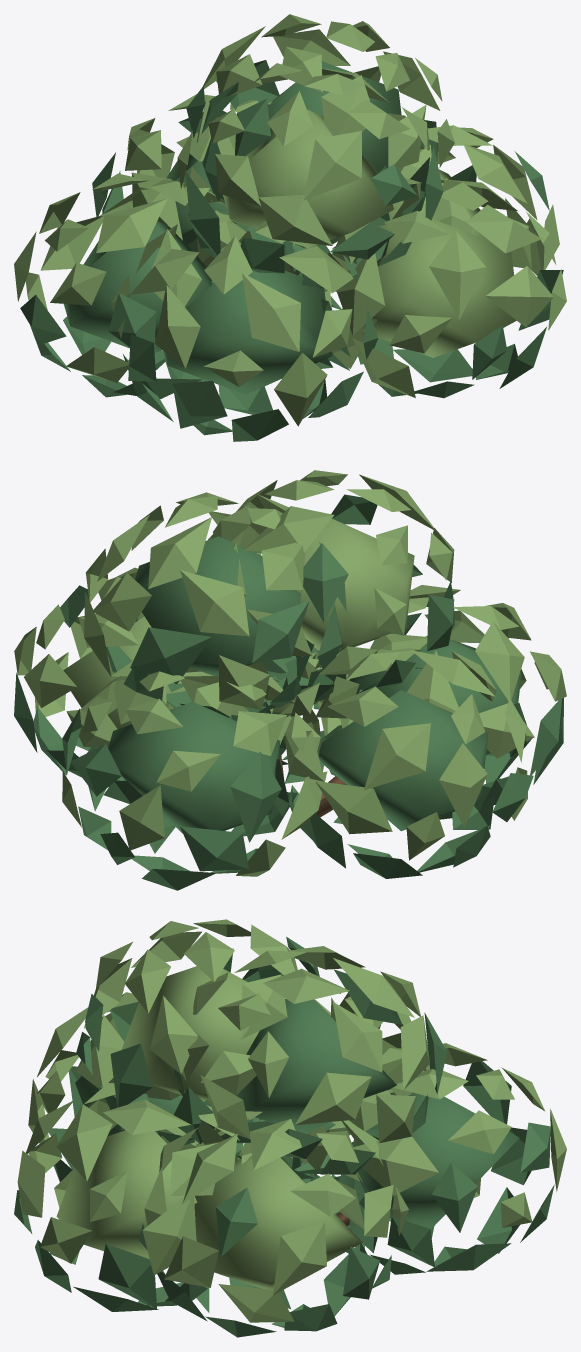
Rendered from shrub.broad-far.glb.
3 views of the same model, one above another, from view 1: azimuth 30°, elevation 25°; view 2: azimuth 150°, elevation 25°; view 3: azimuth 270°, elevation 25° (orthographic). The views are drawn at different scales.
Parts seen in each view (by area): view 1: Low woody shoot; view 2: Low woody shoot; view 3: Low woody shoot.
Part boxes in pixels (x1,y1,x2,y2): Low woody shoot: [14, 14, 566, 441]; Low woody shoot: [14, 470, 566, 890]; Low woody shoot: [14, 919, 566, 1337].
Bounding box in the file's own units: 0.9953 × 0.5913 × 0.9287.
